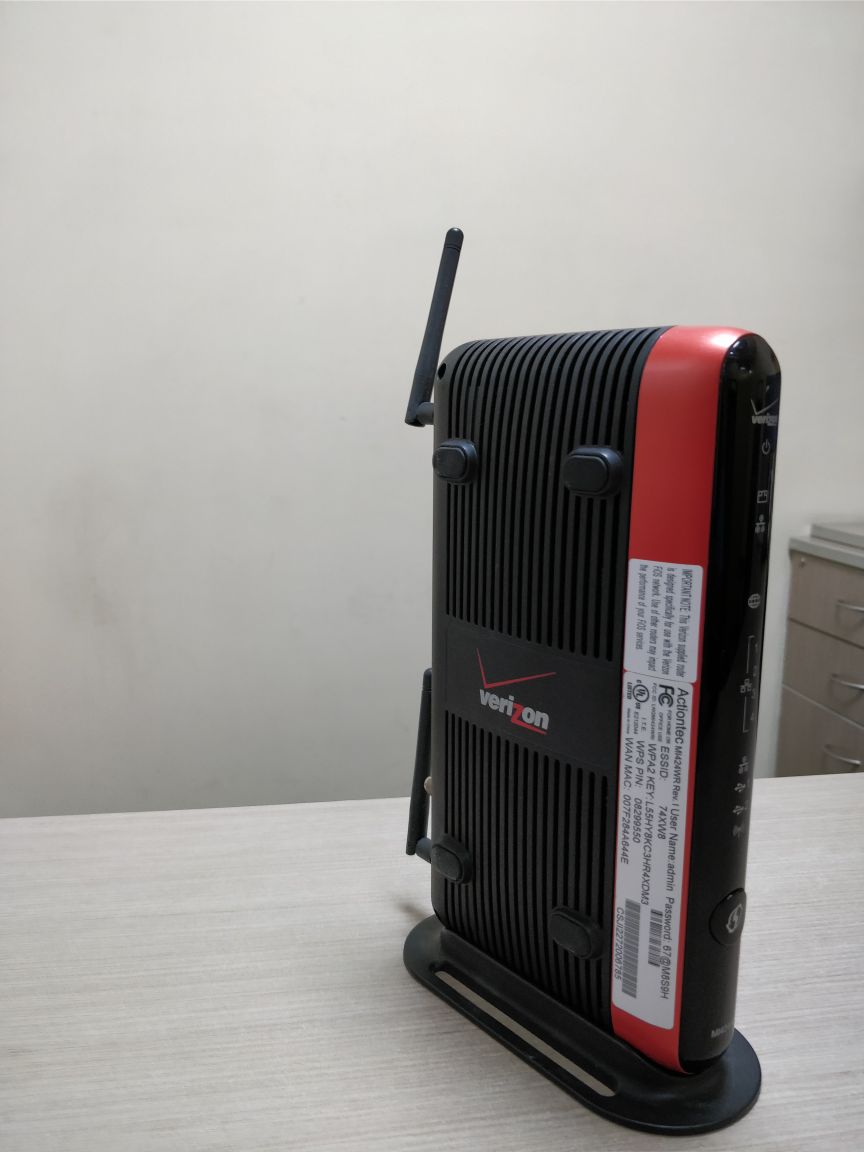Verizon Router: (356, 215, 838, 1148)
